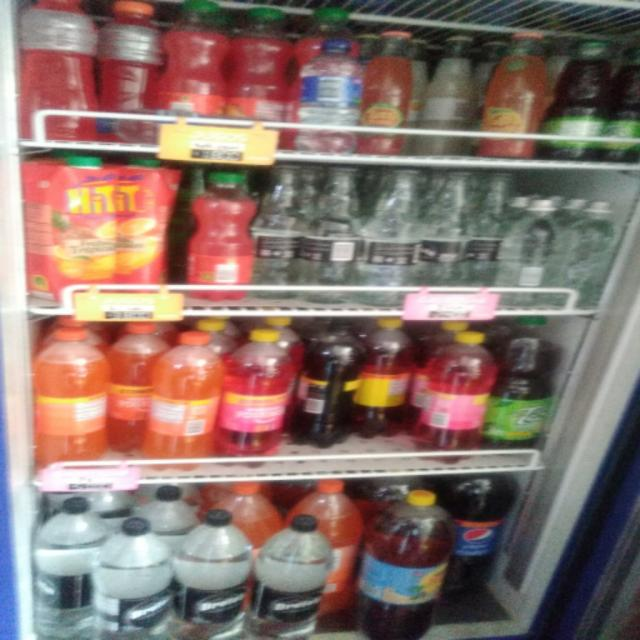Gatorade: (19, 1, 101, 142), (98, 1, 162, 142)
